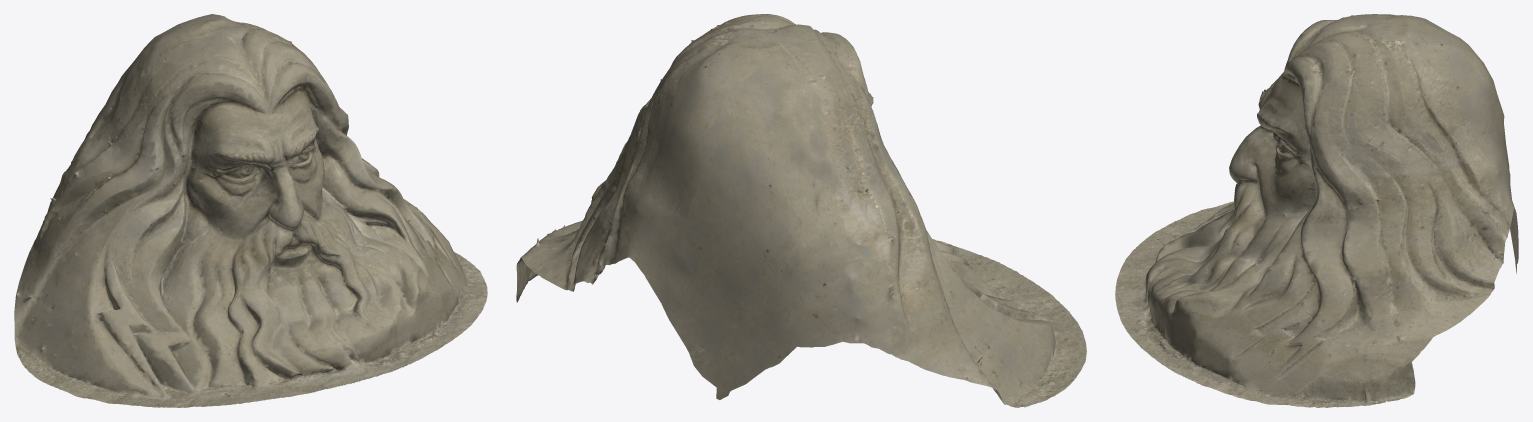
The model's file is zeus.FBX.
The picture shows the model from 3 angles, left to right: view 1: azimuth 30°, elevation 25°; view 2: azimuth 150°, elevation 25°; view 3: azimuth 270°, elevation 25°; orthographic projection. The views are drawn at different scales.
Visible parts, largest first — view 1: zeus; view 2: zeus; view 3: zeus.
Part boxes in pixels (bbox=[...]): zeus: bbox=[14, 14, 487, 407]; zeus: bbox=[516, 14, 1086, 407]; zeus: bbox=[1115, 14, 1518, 407].
Bounding box in the file's own units: 0.2911 × 0.1719 × 0.223.
1 material, 1 textured.
